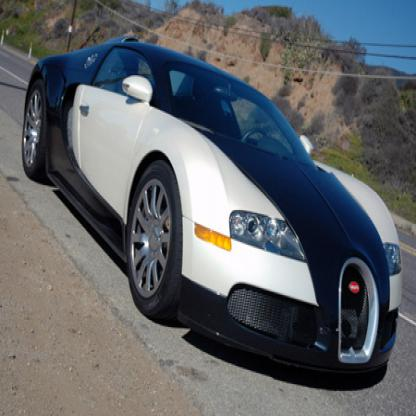Vehicle: (23, 36, 403, 391)
